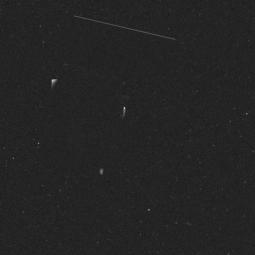proba_3_csc: (49, 15, 166, 129)
